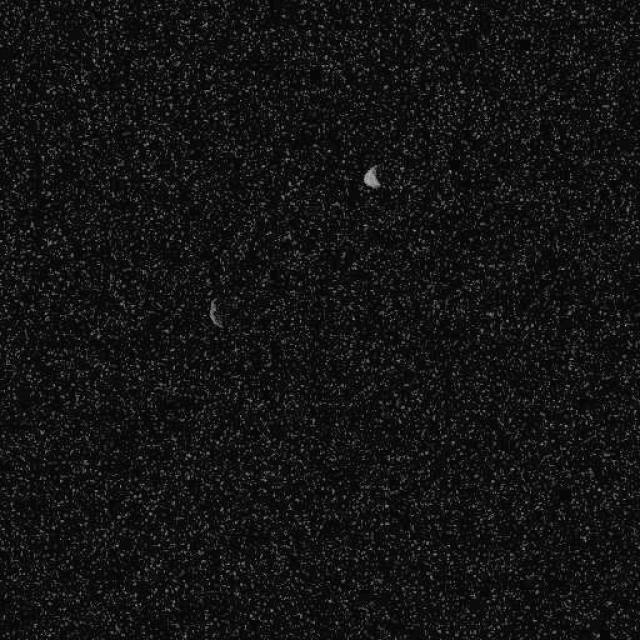D2: (206, 296, 224, 329), (361, 164, 381, 190)
